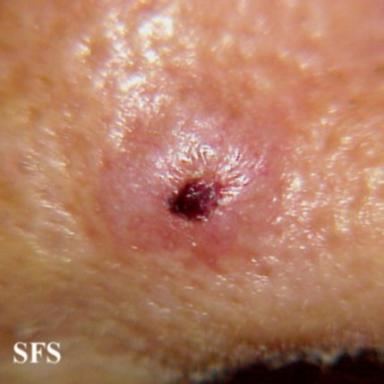basal-cell-carcinoma: (94, 92, 284, 270)
